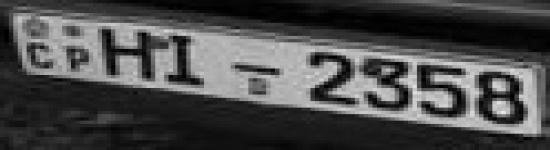-: (225, 58, 288, 77)
2: (302, 47, 362, 110)
3: (359, 53, 415, 113)
5: (413, 60, 470, 122)
8: (468, 69, 532, 126)
C: (26, 39, 58, 70)
H: (94, 23, 162, 84)
I: (162, 30, 216, 91)
P: (58, 41, 94, 75)
